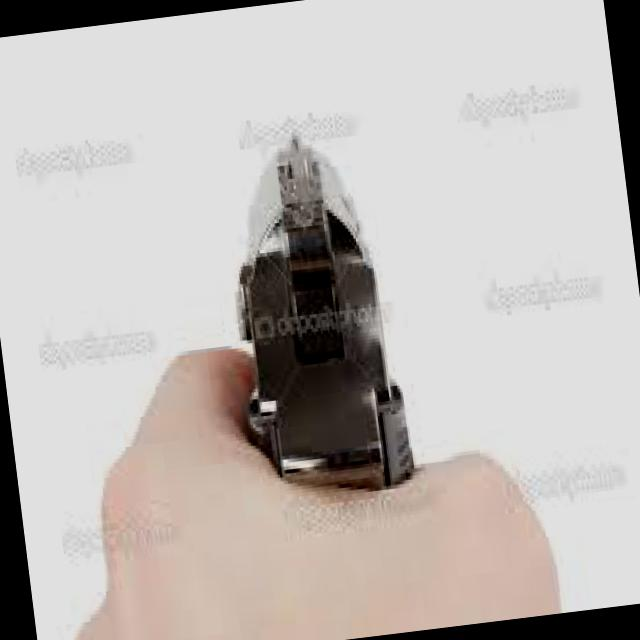handgun: (218, 140, 420, 500)
